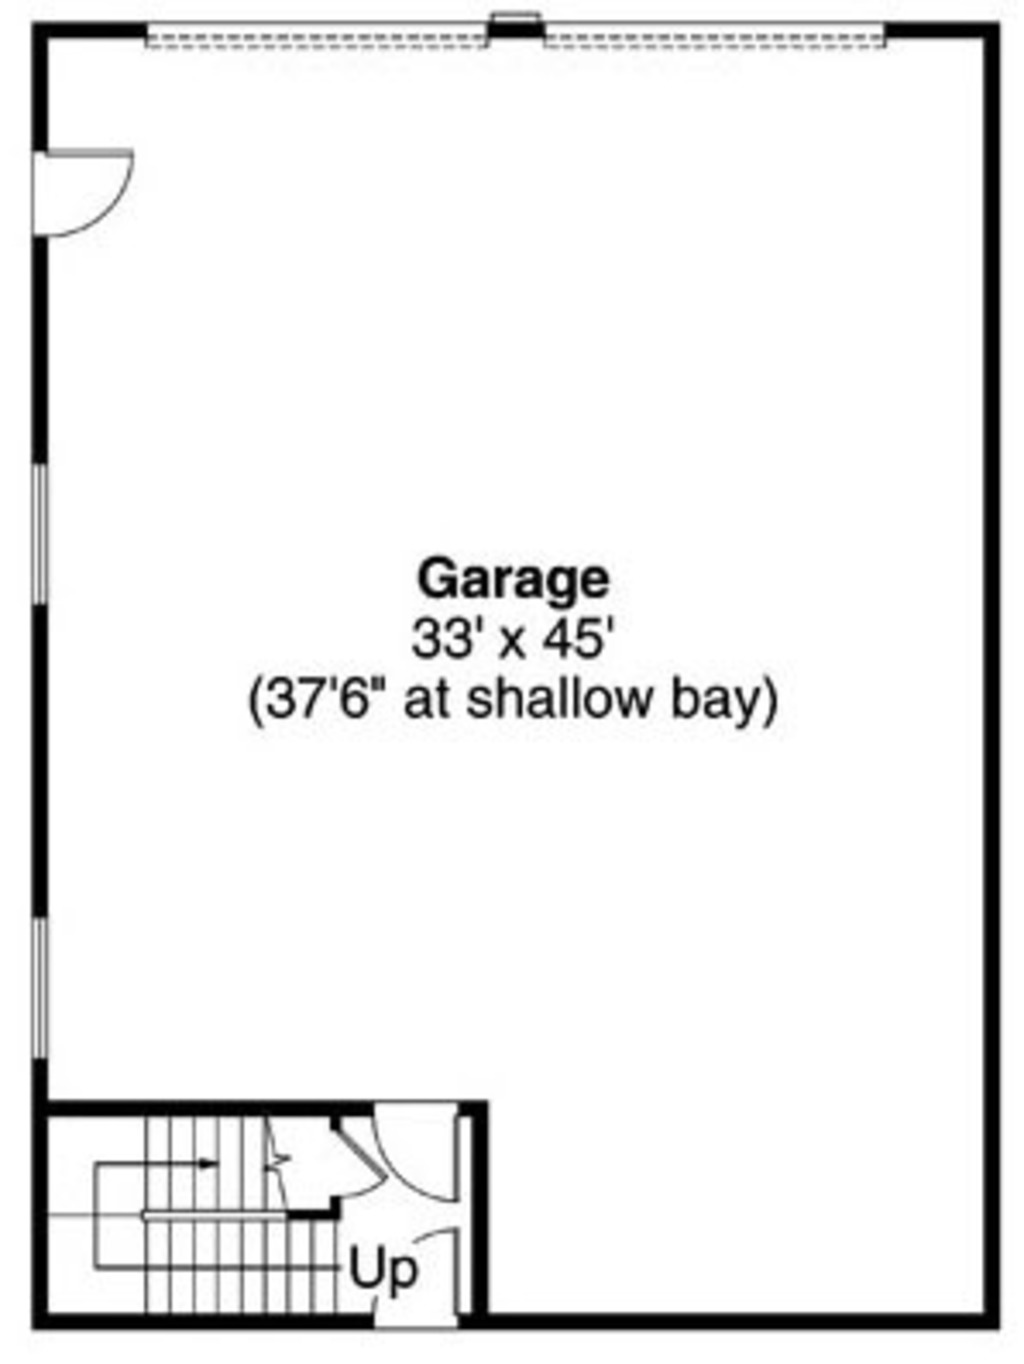door: (15, 142, 146, 252), (367, 1223, 469, 1338), (378, 1096, 469, 1205), (332, 1127, 392, 1219)
stairs: (42, 1098, 338, 1325)
window: (23, 461, 59, 613), (22, 907, 48, 1057)
